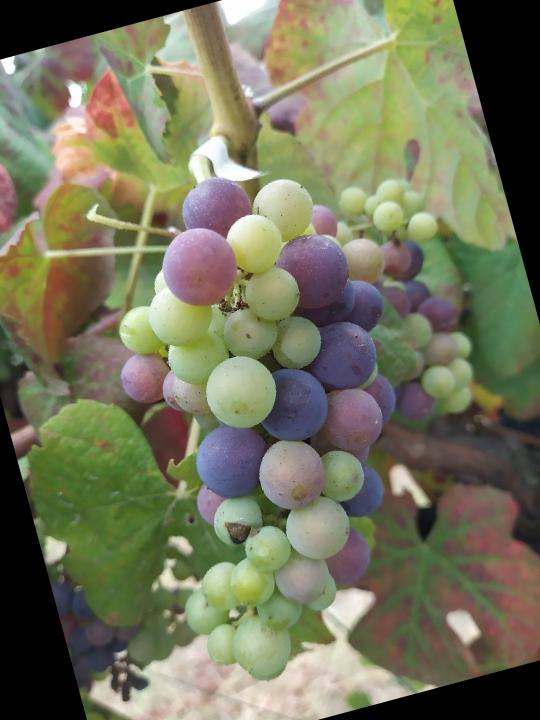grape: (72, 139, 474, 701)
